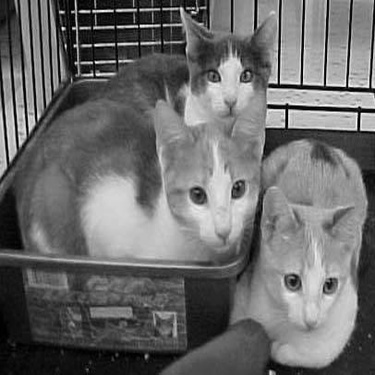cat: (18, 99, 269, 277), (231, 137, 370, 368), (93, 4, 279, 146)
